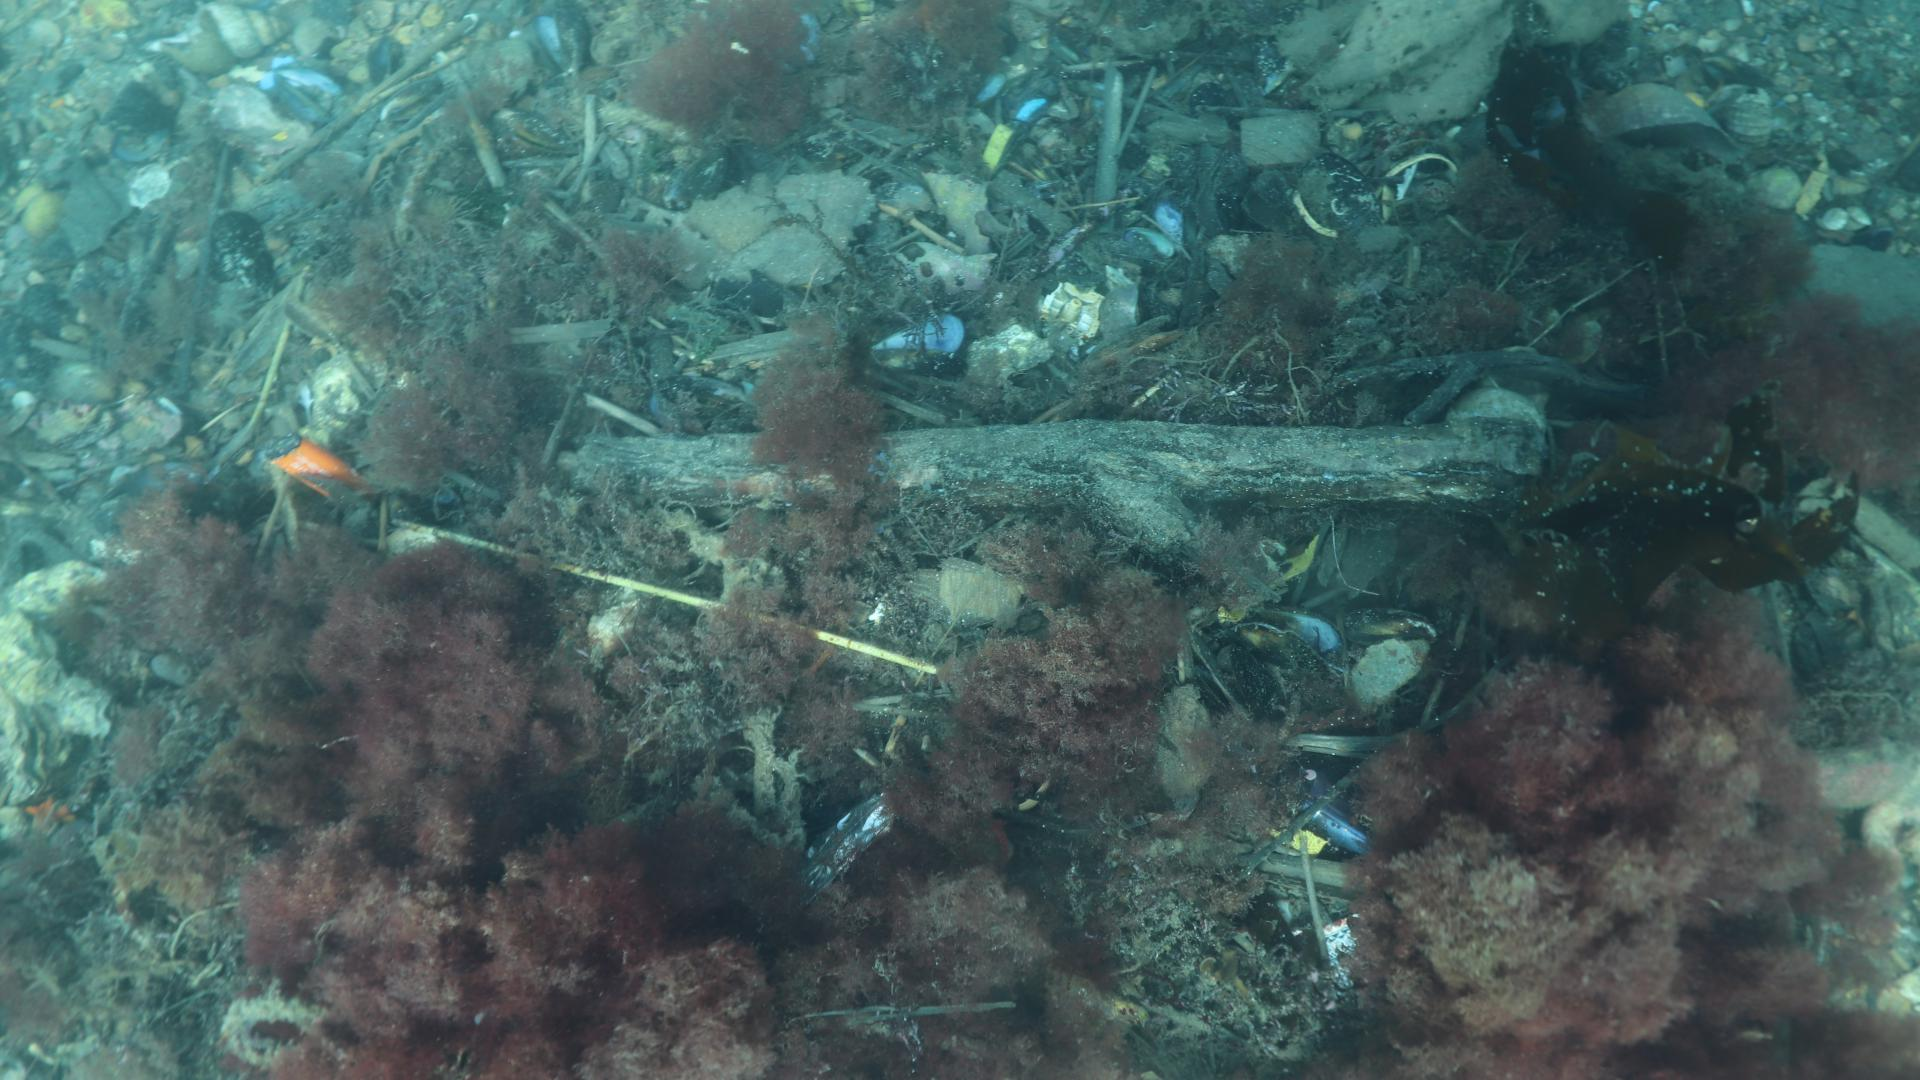wood: (554, 414, 1549, 556)
